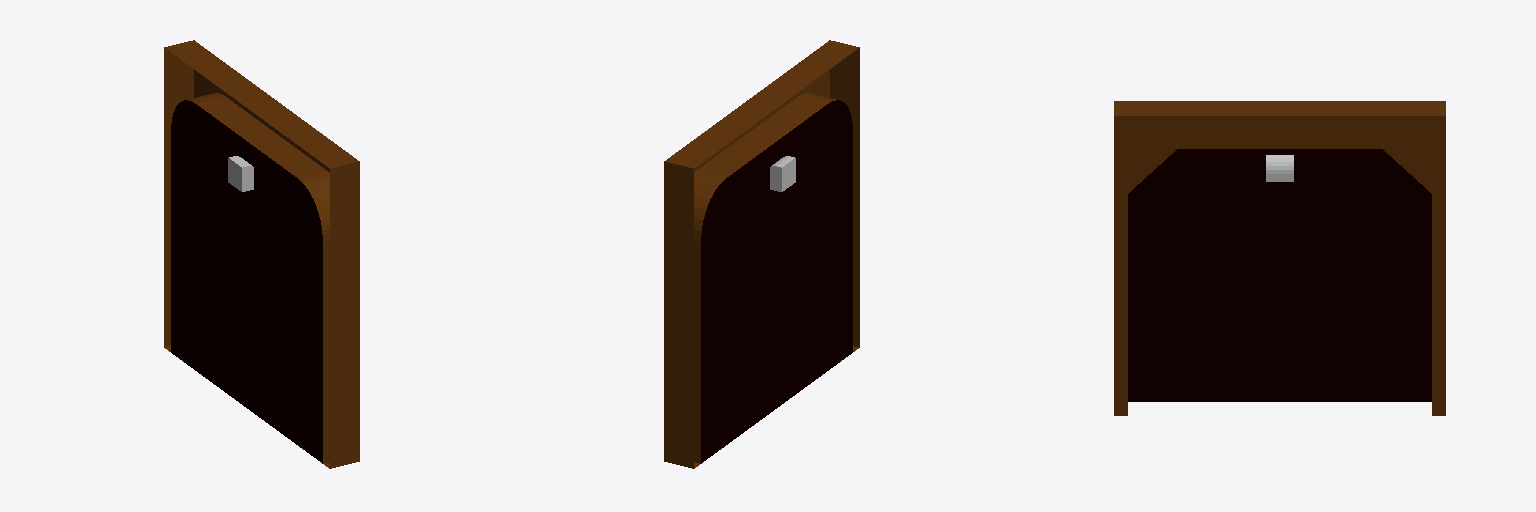
Rendered from wall.obj.
3 renders of one model, left to right at view 1: azimuth 30°, elevation 25°; view 2: azimuth 150°, elevation 25°; view 3: azimuth 270°, elevation 25°, orthographic.
Parts seen in each view (by area): view 1: wall_Plane; view 2: wall_Plane; view 3: wall_Plane.
Boxes of the visible parts, x1=… form: wall_Plane: x1=164, y1=40, x2=359, y2=468; wall_Plane: x1=664, y1=40, x2=859, y2=468; wall_Plane: x1=1114, y1=101, x2=1445, y2=415.
Size of the model in its own units: 0.9271 by 6.37 by 6.37.